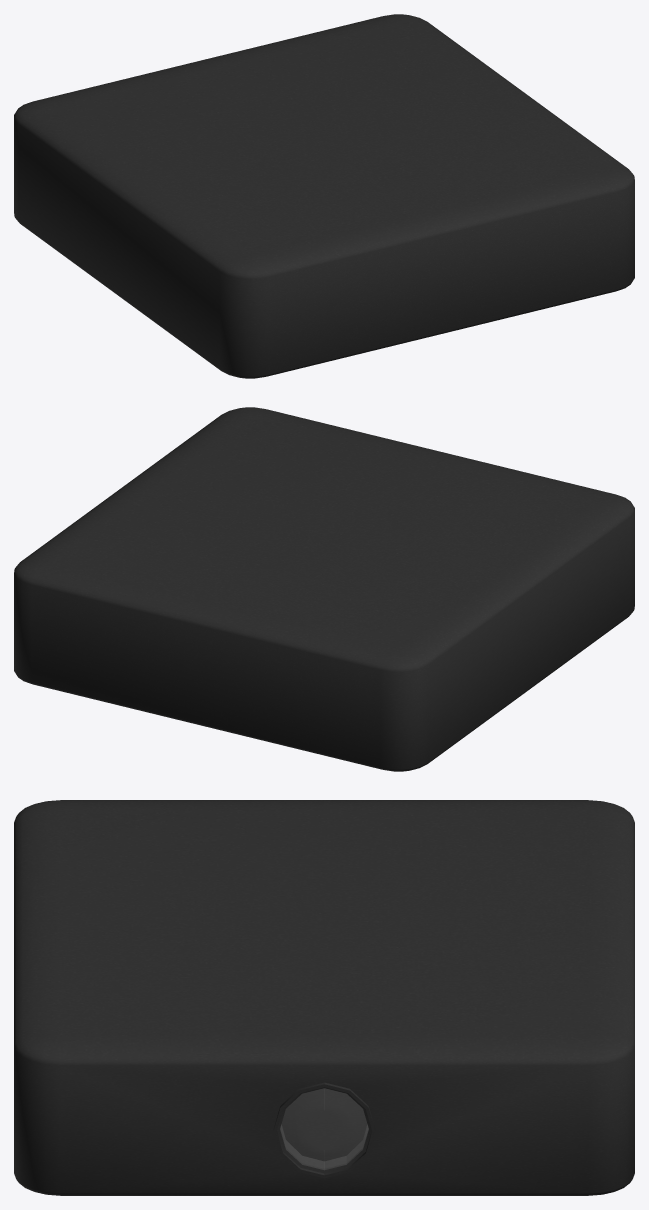
Rendered from projector.obj.
3 renders of one model, top to bottom at view 1: azimuth 30°, elevation 25°; view 2: azimuth 150°, elevation 25°; view 3: azimuth 270°, elevation 25°, orthographic. The views are drawn at different scales.
Parts seen in each view (by area): view 1: projector; view 2: projector; view 3: projector.
Boxes of the visible parts, bbox=[...] form: projector: bbox=[14, 14, 634, 378]; projector: bbox=[14, 407, 634, 771]; projector: bbox=[14, 800, 634, 1195].
Size of the model in its own units: 0.1512 by 0.04 by 0.15.
Materials: 2 (2 with a texture image).
